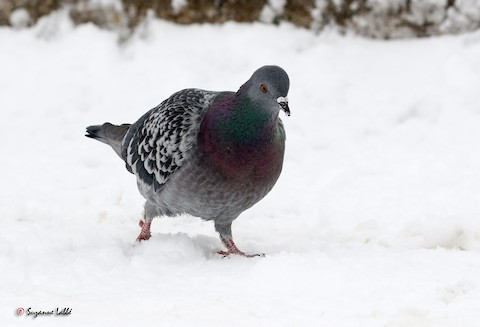pigeon: (83, 59, 294, 262)
